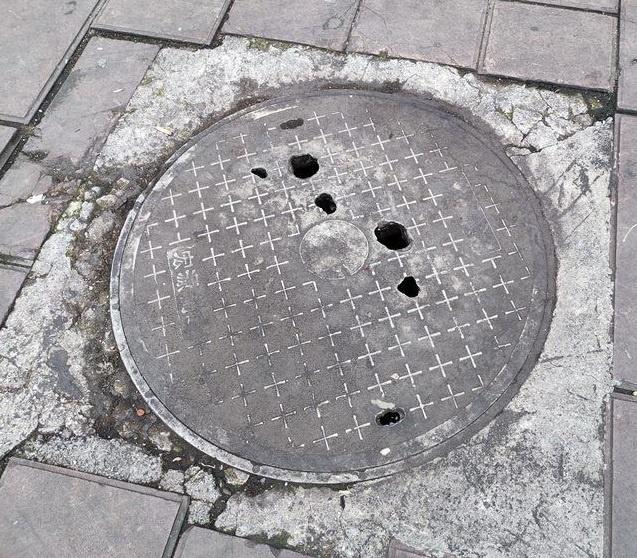wellcover: (15, 29, 625, 558)
